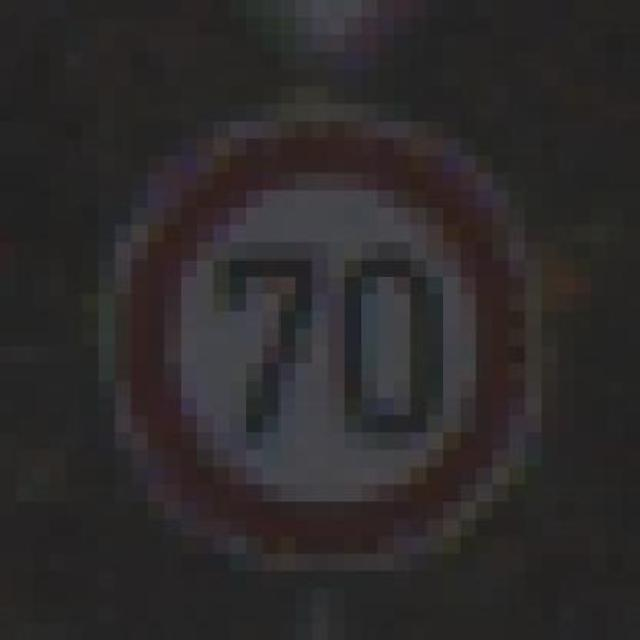forb_speed_over_70: (107, 111, 547, 563)
